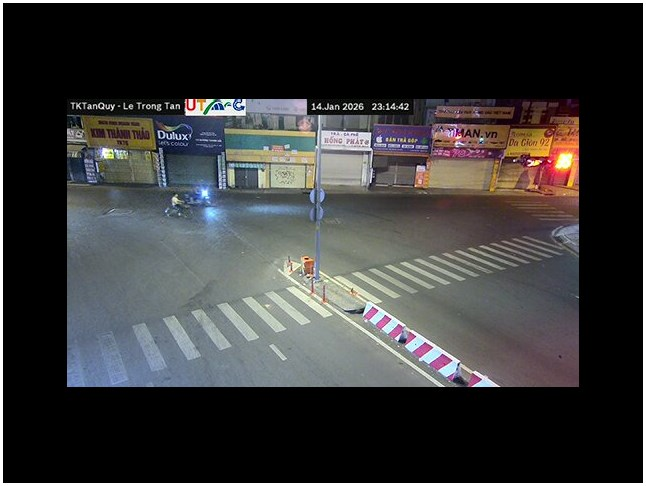motorbike: (163, 194, 191, 219)
